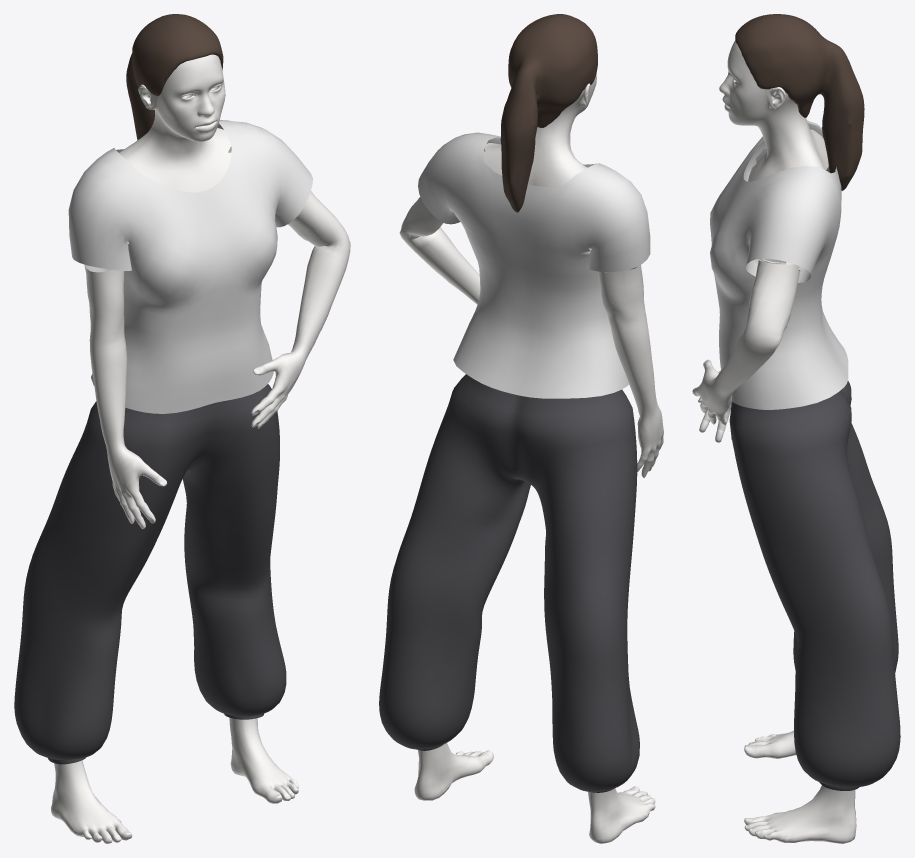
File: mannequin-female-hand_on_hip.glb
The picture shows the model from 3 angles, left to right: view 1: azimuth 30°, elevation 25°; view 2: azimuth 150°, elevation 25°; view 3: azimuth 270°, elevation 25°; orthographic projection. The views are drawn at different scales.
Visible parts, largest first — view 1: Pants, Shirt, Body, HairSculpt; view 2: Pants, Shirt, Body, HairSculpt; view 3: Pants, Shirt, Body, HairSculpt.
Part boxes in pixels (x1,y1,x2,y2): Pants: [14, 384, 286, 764]; Shirt: [68, 120, 312, 413]; Body: [51, 54, 350, 843]; HairSculpt: [126, 14, 223, 140]; Pants: [379, 374, 639, 792]; Shirt: [418, 132, 650, 398]; Body: [399, 74, 663, 843]; HairSculpt: [500, 14, 597, 212]; Pants: [729, 381, 900, 790]; Shirt: [710, 120, 848, 409]; Body: [692, 40, 856, 843]; HairSculpt: [735, 14, 864, 190].
Size of the model in its own units: 0.5968 by 1.65 by 0.399.
